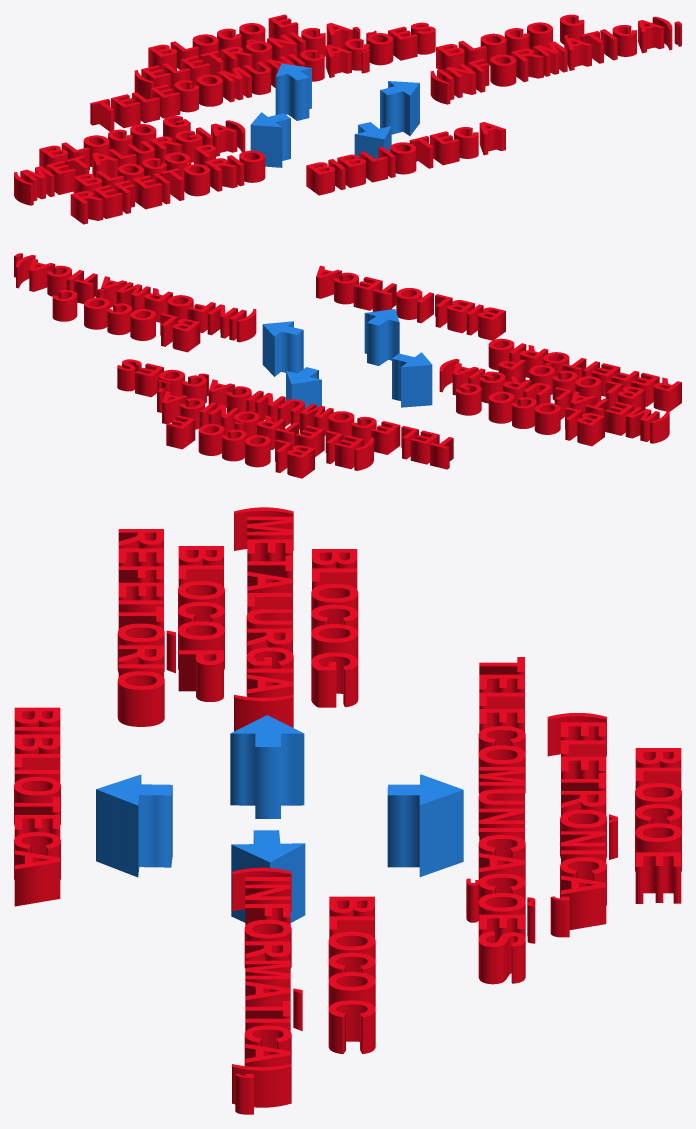
Rendered from Seta bloco E-1.glb.
The picture shows the model from 3 angles, top to bottom: view 1: azimuth 30°, elevation 25°; view 2: azimuth 150°, elevation 25°; view 3: azimuth 270°, elevation 25°; orthographic projection. The views are drawn at different scales.
Parts seen in each view (by area): view 1: Text.002, Text.008, Text.006, Text.009, Text.004, Text.001, Text.007, Text, Text.003, Text.005, Curve.003, Curve.004 (+2 smaller); view 2: Text.002, Text.008, Text.009, Text.001, Text.004, Text, Text.003, Text.007, Text.006, Text.005, Curve.003, Curve.002 (+2 smaller); view 3: Text.002, Text.008, Text.001, Text.004, Text.006, Text.009, Text.003, Text.007, Text, Text.005, Curve.001, Curve.004 (+2 smaller).
Boxes of the visible parts, x1,y1,x2,y2 form: Text.002: (90,22,435,131); Text.008: (430,16,681,104); Text.006: (70,150,265,224); Text.009: (306,122,505,195); Text.004: (14,120,245,205); Text.001: (134,23,360,99); Text.007: (436,14,584,71); Text: (148,14,298,70); Text.003: (39,116,190,169); Text.005: (73,144,215,193); Curve.003: (380,81,419,135); Curve.004: (275,63,311,120); Text.002: (117,359,453,469); Text.008: (14,253,256,342); Text.009: (316,265,505,340); Text.001: (157,388,373,470); Text.004: (439,358,669,443); Text: (166,415,314,478); Text.003: (456,383,604,446); Text.007: (52,290,200,352); Text.006: (488,338,681,411); Text.005: (498,359,645,410); Curve.003: (262,321,303,376); Curve.002: (392,352,432,407); Text.002: (466,657,535,984); Text.008: (232,867,302,1114); Text.001: (547,713,617,937); Text.004: (234,507,293,731); Text.006: (117,529,175,726); Text.009: (14,707,60,906); Text.003: (311,549,358,707); Text.007: (328,896,375,1054); Text: (635,748,681,903); Text.005: (178,546,224,701); Curve.001: (96,774,172,877); Curve.004: (387,774,463,876).
Size of the model in its own units: 5.94 by 0.3744 by 2.94.
